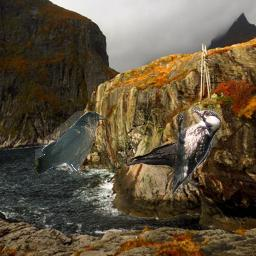Crow: (125, 123, 212, 186), (35, 111, 109, 178)
Woodpecker: (172, 105, 222, 198)
